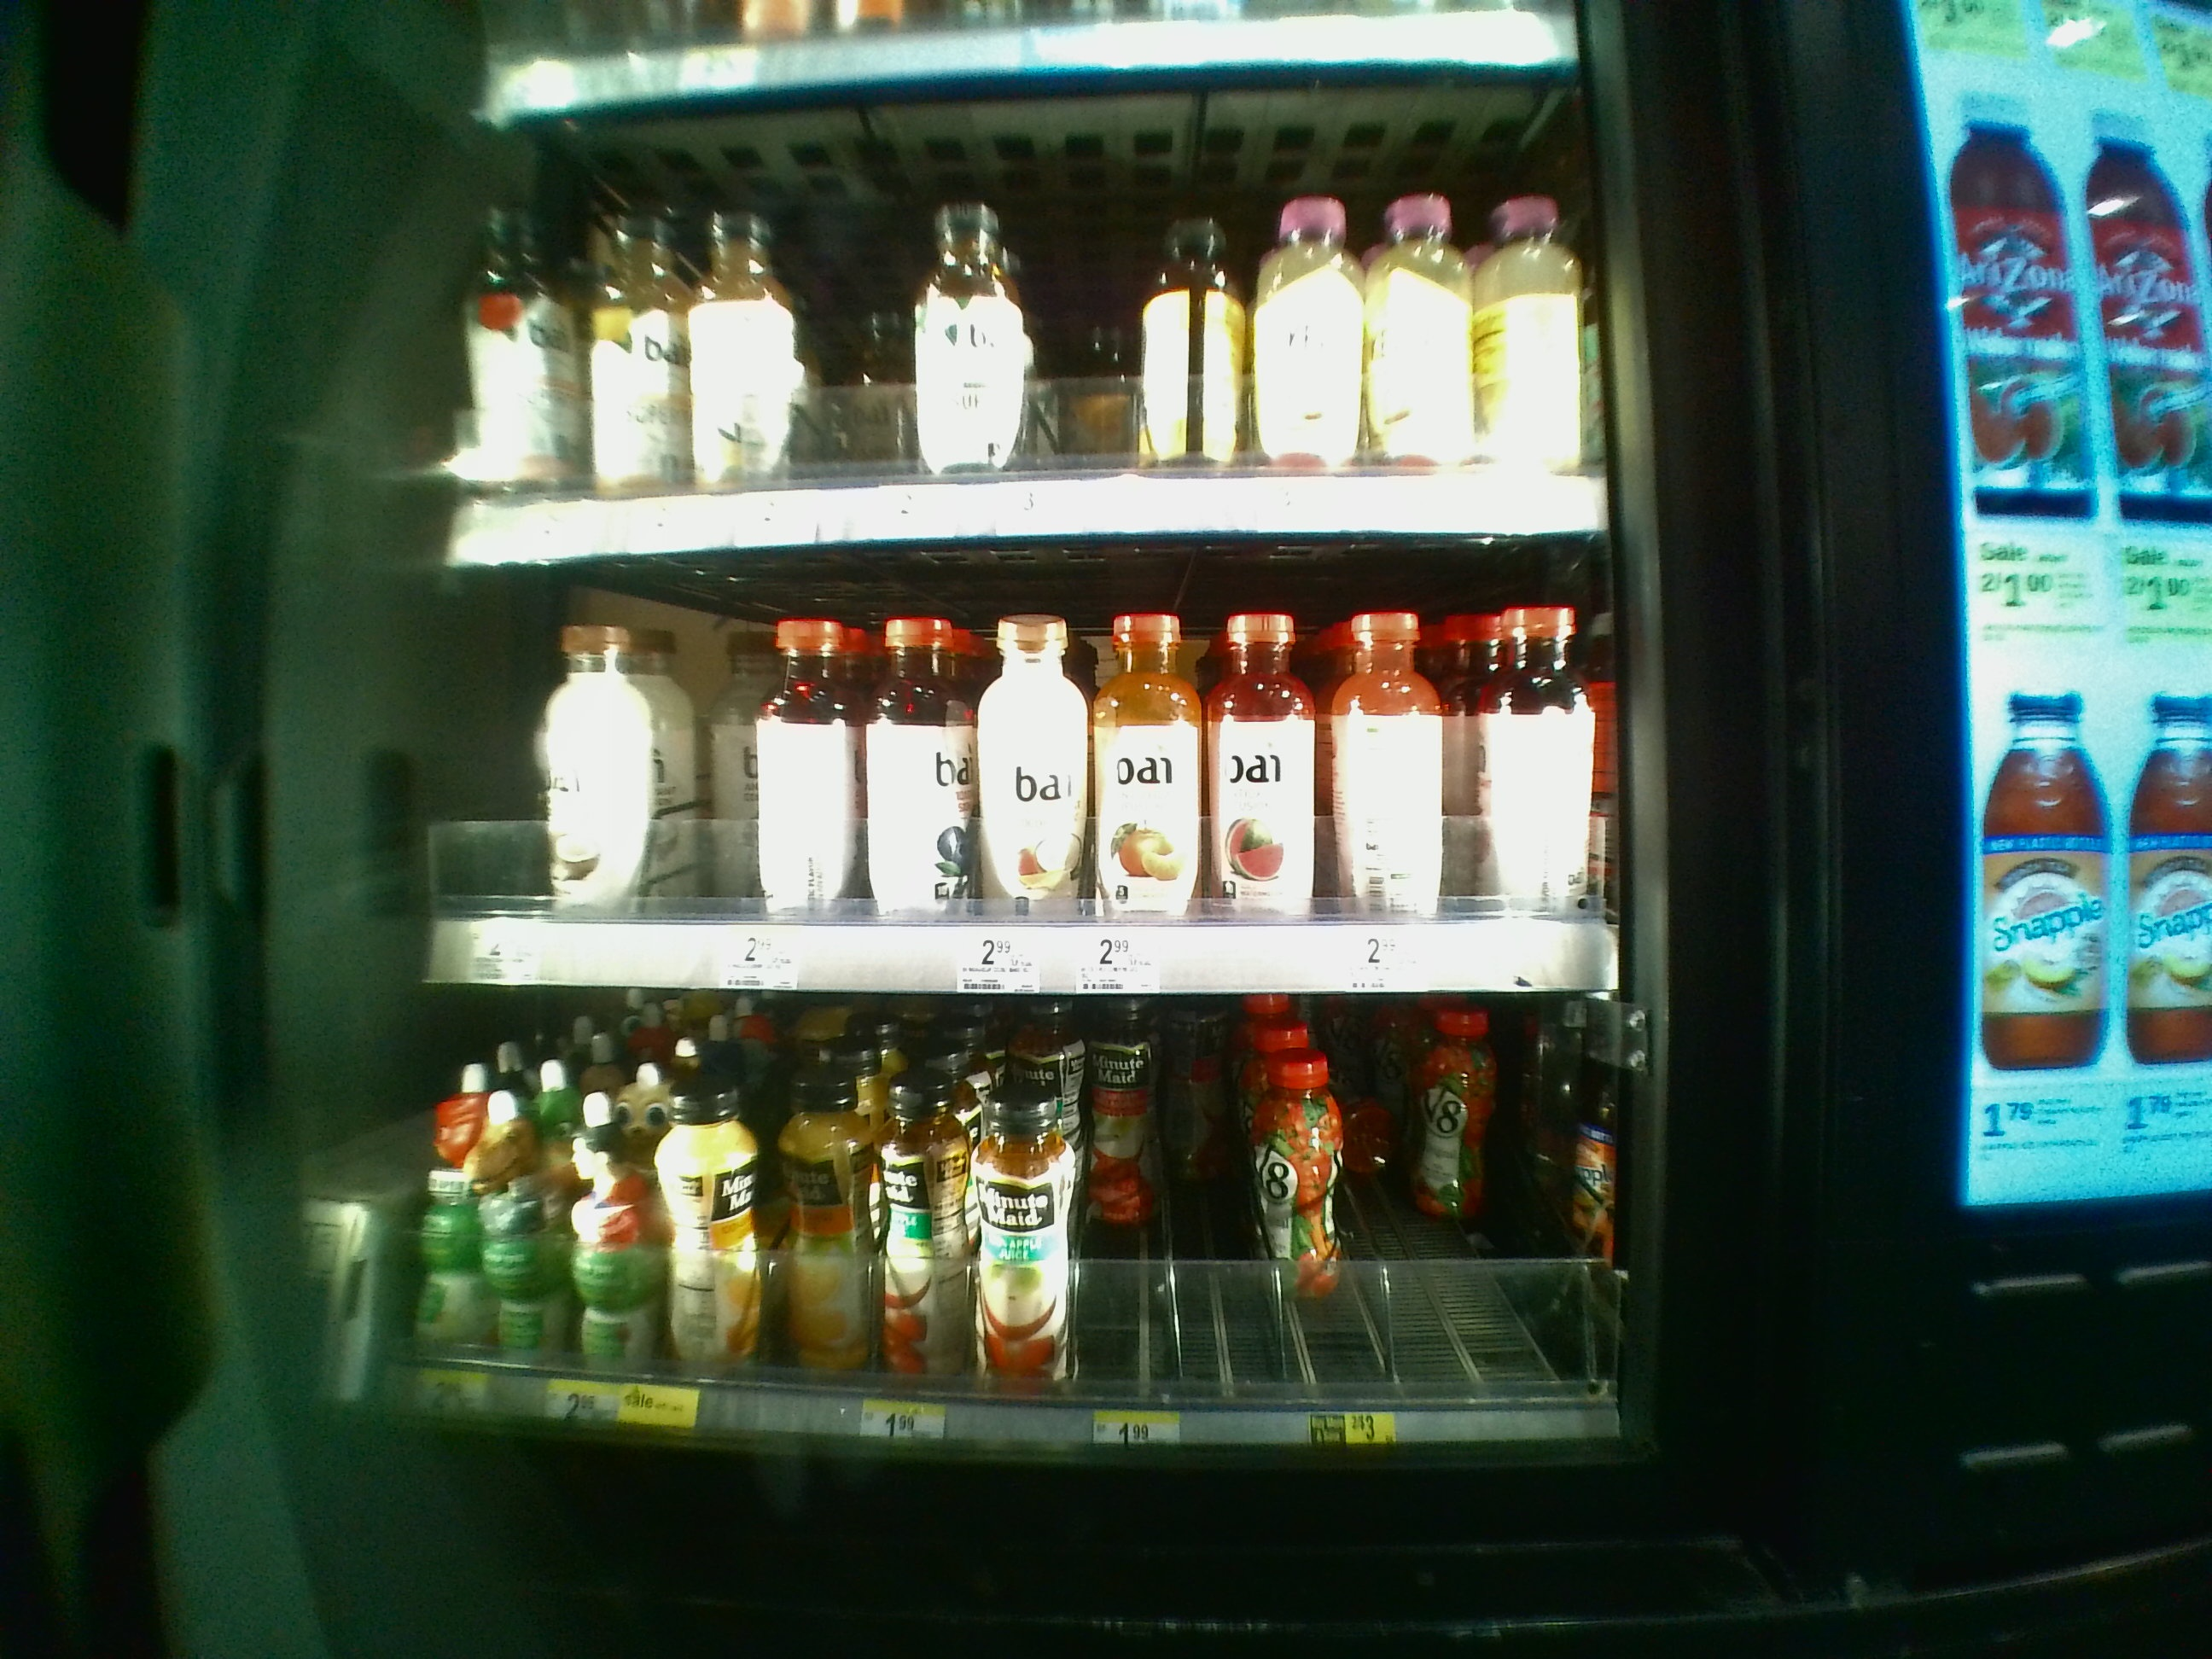shelf: (383, 1004, 1639, 1516), (409, 587, 1630, 988), (434, 166, 1627, 572)
